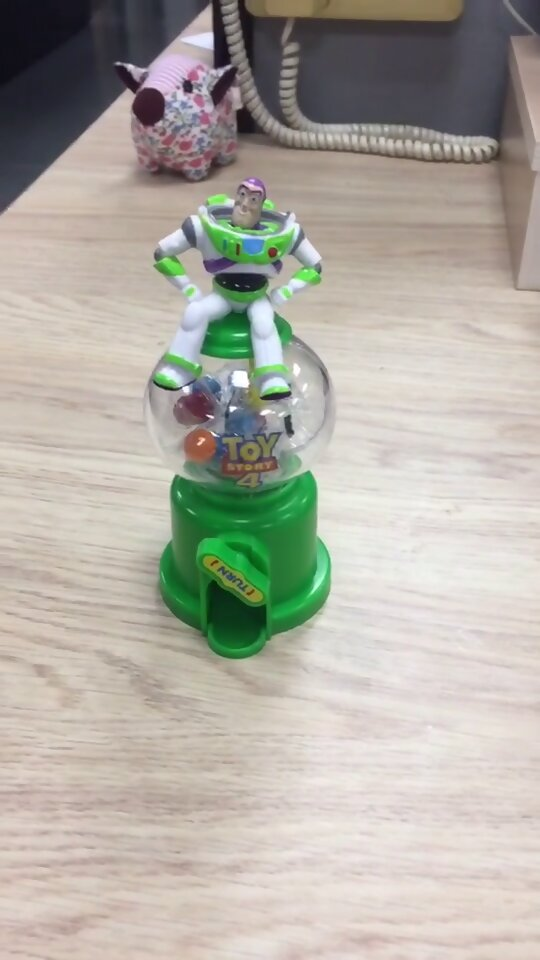buzz: (143, 175, 339, 661)
